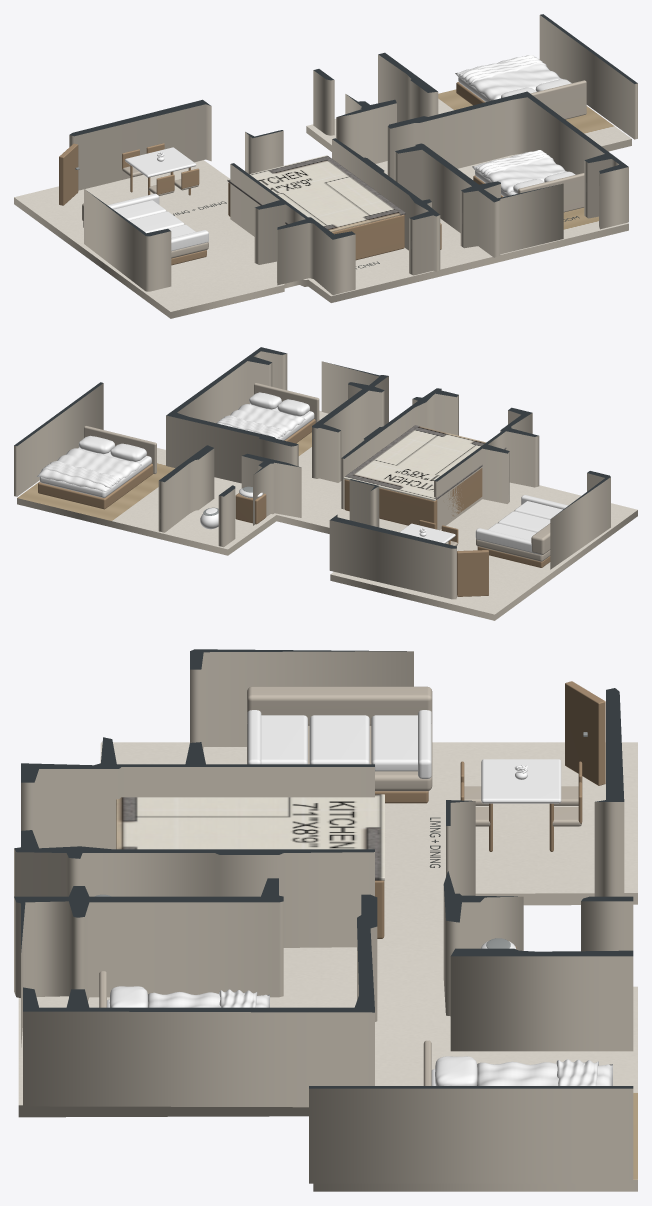
File: opal-group-unit-07.glb
3 views of the same model, one above another, from view 1: azimuth 30°, elevation 25°; view 2: azimuth 150°, elevation 25°; view 3: azimuth 270°, elevation 25° (orthographic). The views are drawn at different scales.
Visible parts, largest first — view 1: Partition walls, Apartment floor, Stone worktop, Kitchen cabinets, Draped bed linen.002, Upholstered headboard.001, Draped bed linen, Marble dining top, Upholstered headboard, Open oak door, Draped bed linen.003, Draped bed linen.001 (+3 smaller); view 2: Partition walls, Apartment floor, Stone worktop, Kitchen cabinets, Draped bed linen.002, Open oak door, Walnut upholstered base.001, Draped bed linen, Piped mattress.001, Upholstered headboard.001, Draped bed linen.003, Vanity cabinet.001 (+14 smaller); view 3: Partition walls, Apartment floor, Stone worktop, Sofa back, Open oak door, Marble dining top, Seat cushion.001, Seat cushion.002, Seat cushion, Draped bed linen.002, Upholstered sofa frame, Draped bed linen (+5 smaller).
Boxes of the visible parts, x1,y1,x2,y2 form: Partition walls: [69, 14, 637, 294]; Apartment floor: [14, 89, 631, 318]; Stone worktop: [227, 155, 405, 232]; Kitchen cabinets: [228, 182, 404, 260]; Draped bed linen.002: [455, 55, 562, 100]; Upholstered headboard.001: [530, 80, 586, 119]; Draped bed linen: [472, 152, 566, 193]; Marble dining top: [125, 147, 196, 177]; Upholstered headboard: [518, 173, 584, 212]; Open oak door: [59, 143, 78, 205]; Draped bed linen.003: [459, 55, 546, 84]; Draped bed linen.001: [475, 150, 553, 177]; Partition walls: [14, 347, 610, 599]; Apartment floor: [17, 410, 637, 620]; Stone worktop: [343, 425, 506, 500]; Kitchen cabinets: [344, 468, 482, 529]; Draped bed linen.002: [37, 448, 141, 491]; Open oak door: [457, 550, 488, 596]; Walnut upholstered base.001: [38, 463, 153, 509]; Draped bed linen: [218, 404, 305, 439]; Piped mattress.001: [39, 447, 151, 497]; Upholstered headboard.001: [84, 426, 156, 473]; Draped bed linen.003: [41, 461, 120, 488]; Vanity cabinet.001: [235, 493, 266, 524]; Partition walls: [14, 649, 633, 1183]; Apartment floor: [18, 742, 637, 1191]; Stone worktop: [116, 794, 384, 880]; Sofa back: [247, 686, 432, 725]; Open oak door: [565, 681, 605, 785]; Marble dining top: [481, 759, 561, 803]; Seat cushion.001: [309, 715, 369, 764]; Seat cushion.002: [371, 715, 417, 771]; Seat cushion: [261, 715, 307, 764]; Draped bed linen.002: [477, 1061, 612, 1085]; Upholstered sofa frame: [247, 722, 432, 791]; Draped bed linen: [148, 992, 269, 1007].
Bounding box in the file's own units: 12.77 × 1.44 × 7.63.
12 materials, 2 textured.
